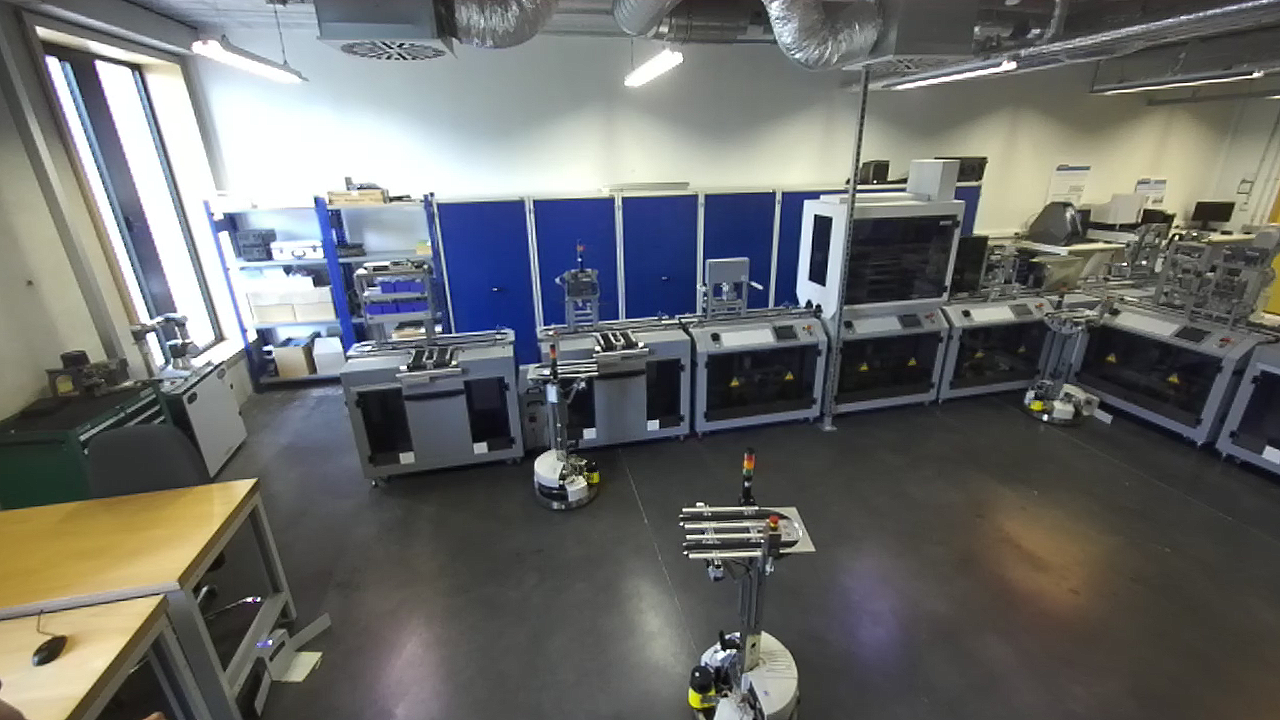AMR: (673, 448, 808, 720), (522, 329, 607, 510), (1027, 275, 1115, 426)
